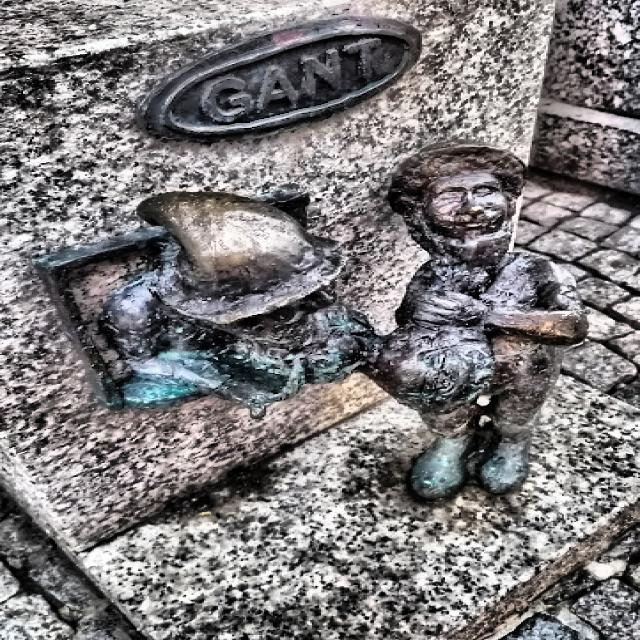Kantorki: (34, 144, 586, 499)
